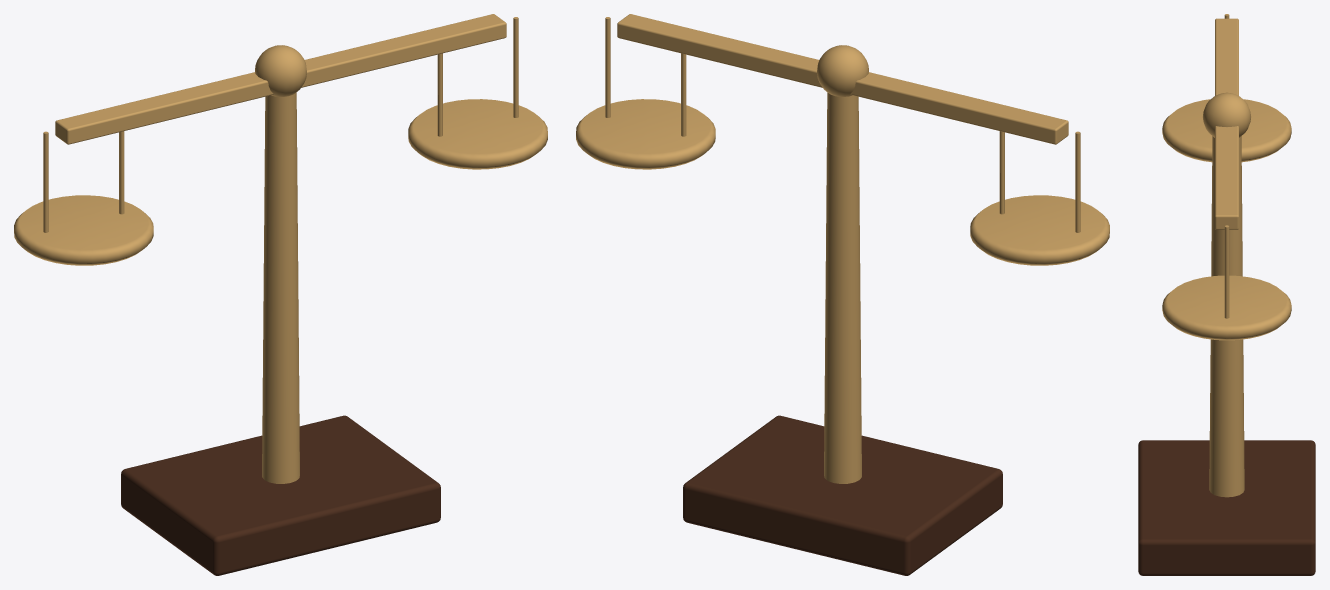
3 renders of one model, left to right at view 1: azimuth 30°, elevation 25°; view 2: azimuth 150°, elevation 25°; view 3: azimuth 270°, elevation 25°, orthographic. The views are drawn at different scales.
Size of the model in its own units: 0.68 by 0.59 by 0.22.
